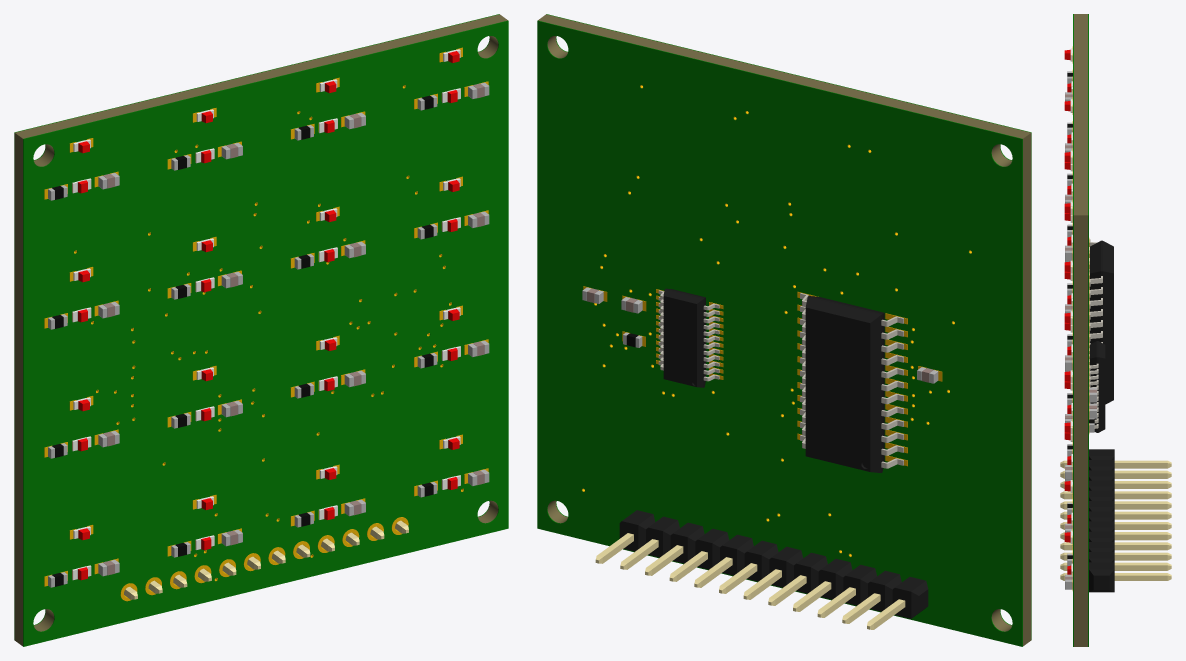
File: PST.obj
The picture shows the model from 3 angles, left to right: view 1: azimuth 30°, elevation 25°; view 2: azimuth 150°, elevation 25°; view 3: azimuth 270°, elevation 25°; orthographic projection. The views are drawn at different scales.
Parts seen in each view (by area): view 1: Body1:2, Board, Body3, Body2, Body1:3; view 2: Body1:3, Body1:58, Body13, Board, Body1:57, Body3:1, Body1:2; view 3: Board, Body13, Body1:58, Body1:57, Body1:2, Body1:3, Body4, Body9, Body10, Body5, Body6, Body11 (+8 smaller).
Boxes of the visible parts, box(x1,y1,x2,y2) form: Body1:2: box(23, 20, 508, 646); Board: box(14, 14, 507, 646); Body3: box(44, 47, 488, 586); Body2: box(120, 517, 408, 601); Body1:3: box(14, 14, 499, 639); Body1:3: box(537, 20, 1022, 646); Body1:58: box(805, 296, 884, 472); Body13: box(619, 510, 928, 618); Board: box(538, 14, 1031, 646); Body1:57: box(663, 288, 705, 387); Body3:1: box(583, 286, 942, 466); Body1:2: box(546, 14, 1031, 639); Board: box(1074, 14, 1087, 646); Body13: box(1089, 449, 1114, 592); Body1:58: box(1090, 240, 1113, 404); Body1:57: box(1090, 341, 1105, 432); Body1:2: box(1073, 14, 1073, 646); Body1:3: box(1088, 14, 1088, 646); Body4: box(1060, 491, 1171, 499); Body9: box(1060, 542, 1171, 550); Body10: box(1060, 552, 1171, 560); Body5: box(1060, 501, 1171, 509); Body6: box(1060, 511, 1171, 519); Body11: box(1060, 562, 1171, 570).
Size of the model in its own units: 5 by 5 by 1.17.
